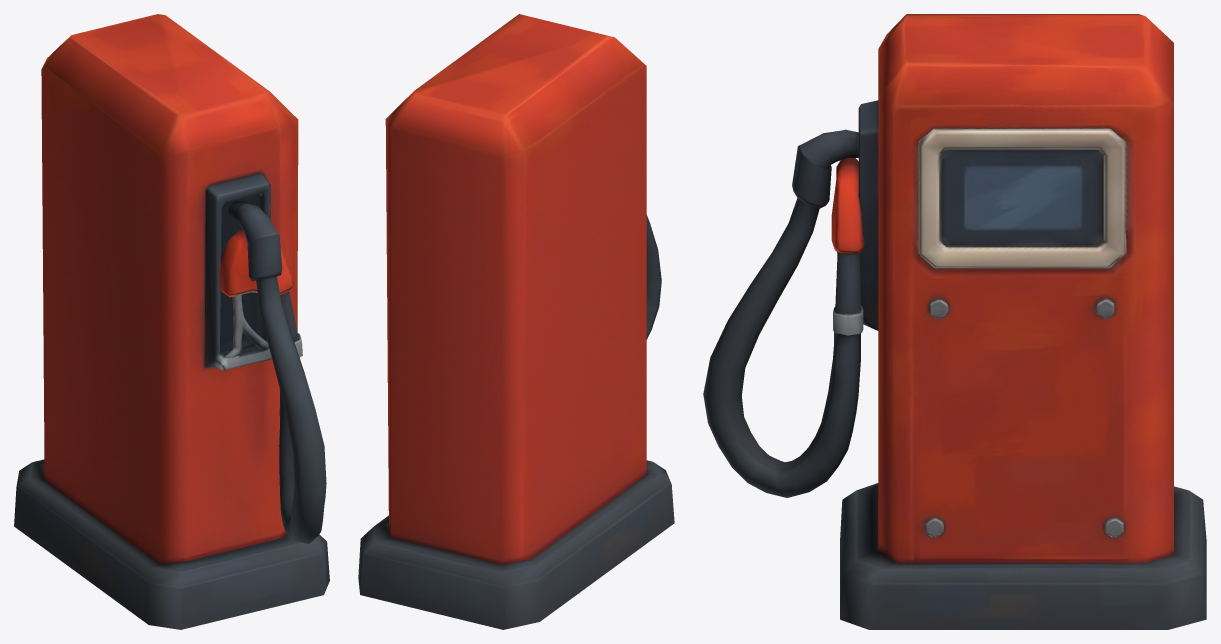
3 renders of one model, left to right at view 1: azimuth 30°, elevation 25°; view 2: azimuth 150°, elevation 25°; view 3: azimuth 270°, elevation 25°, orthographic. The views are drawn at different scales.
Visible parts, largest first — view 1: tripo_node_874349a2-6feb-404b-ac59-4a47c2e91f0a; view 2: tripo_node_874349a2-6feb-404b-ac59-4a47c2e91f0a; view 3: tripo_node_874349a2-6feb-404b-ac59-4a47c2e91f0a.
Boxes of the visible parts, x1,y1,x2,y2 form: tripo_node_874349a2-6feb-404b-ac59-4a47c2e91f0a: (14, 14, 329, 629); tripo_node_874349a2-6feb-404b-ac59-4a47c2e91f0a: (358, 14, 674, 629); tripo_node_874349a2-6feb-404b-ac59-4a47c2e91f0a: (703, 14, 1206, 629).
Bounding box in the file's own units: 0.3887 × 0.998 × 0.8418.
1 material, 1 textured.
